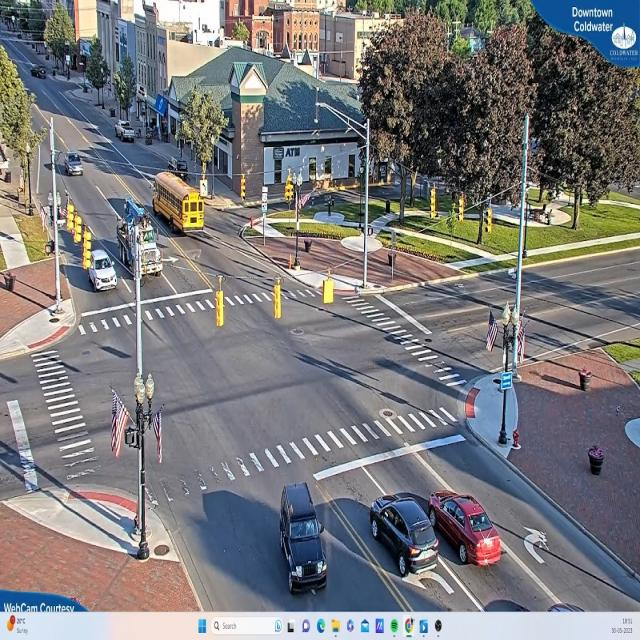bus: (152, 172, 206, 234)
car: (368, 494, 442, 580), (427, 491, 506, 568), (280, 482, 328, 592), (88, 250, 120, 291), (118, 120, 138, 143), (64, 152, 83, 176)
truck: (114, 197, 162, 279)
